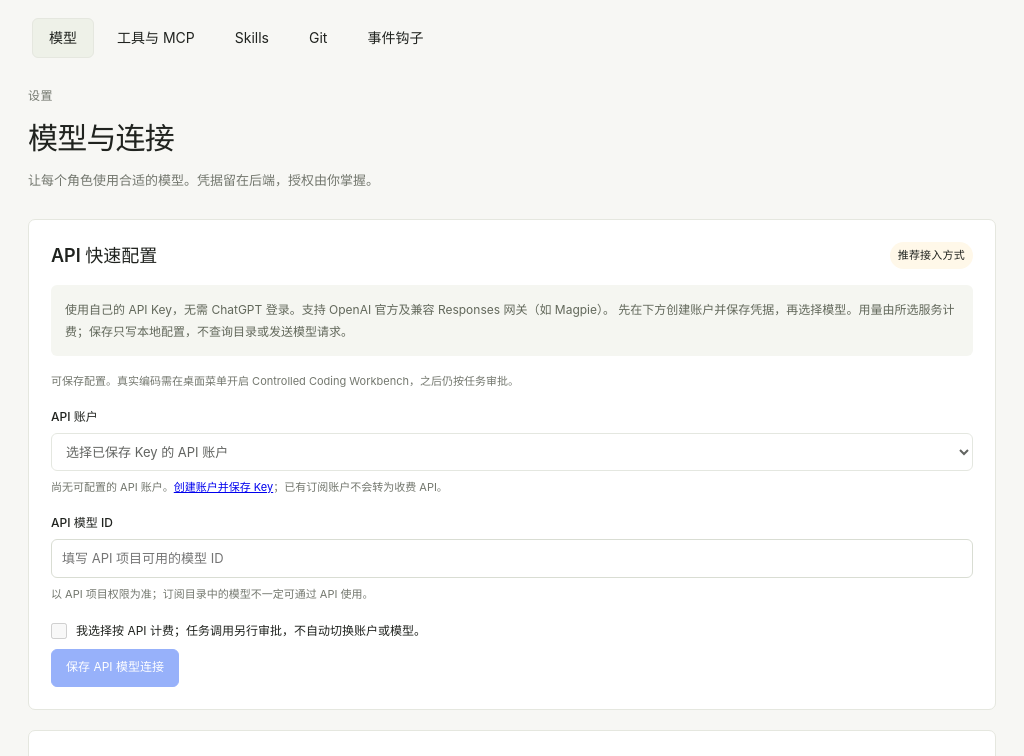
Test: shows unavailable data rather than fake empty states and explicitly retries the read
The width and height of the screenshot is (1024, 756).
Click the button "工具与 MCP".
click(156, 38)  # box [100,18,212,58]
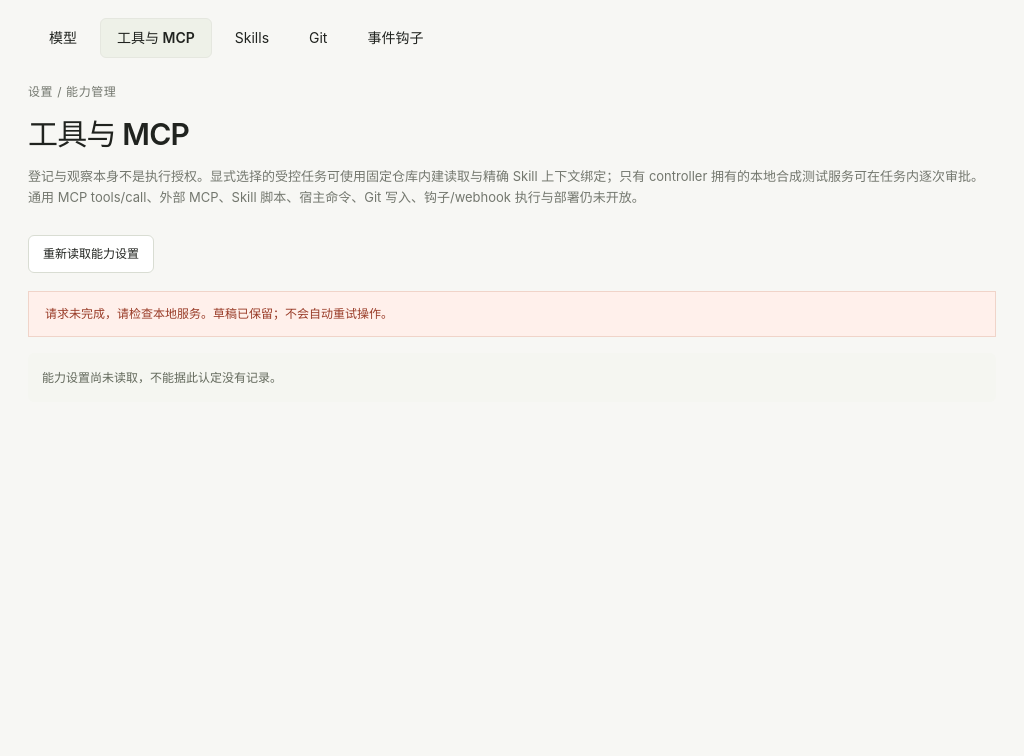
Expected: the text "尚未登记 MCP 连接" is not shown
Now the message shows "请求未完成", box [45,306,393,321]
Click the button "重新读取能力设置".
click(91, 254)  # box [28,235,154,273]
(page scrolled)
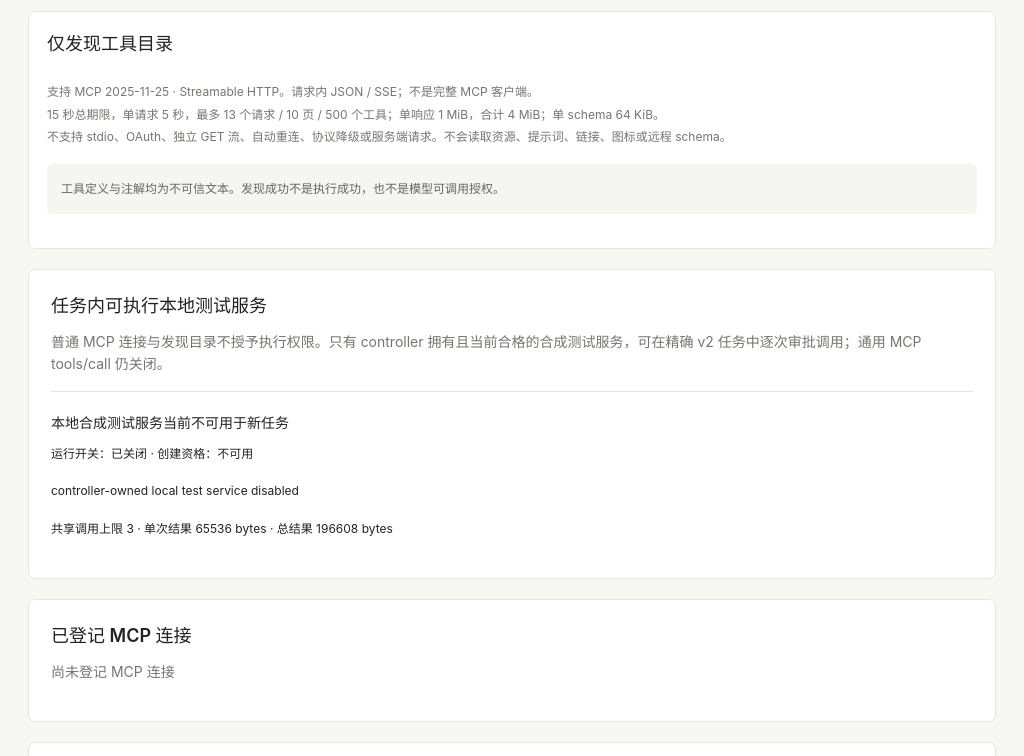
Now the text "尚未登记 MCP 连接" is shown, box [51,663,175,680]
